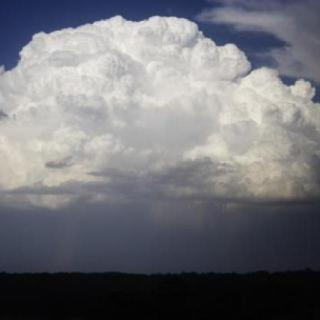Cumulonimbus: (0, 1, 320, 265)
